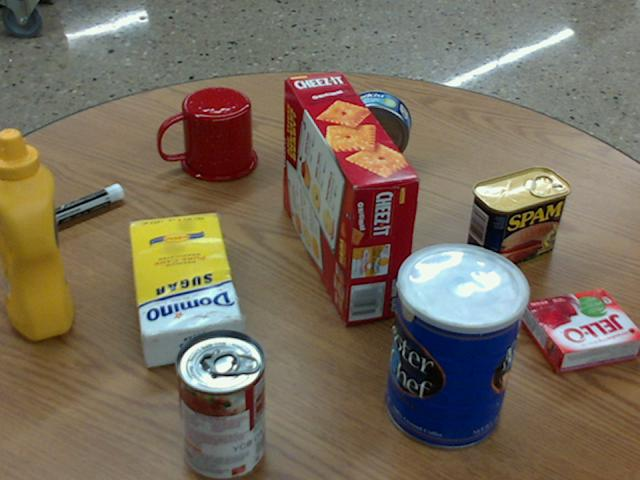cracker_box: (284, 73, 419, 324)
gelatin_box: (523, 288, 639, 372)
large_marker: (18, 183, 123, 235)
master_chef_can: (386, 243, 528, 449)
mug: (158, 87, 256, 181)
mustard_bottle: (0, 129, 72, 337)
potted_meat_can: (466, 166, 570, 272)
sugar_box: (129, 212, 242, 366)
tomato_soup_can: (173, 330, 263, 479)
tuna_fish_can: (338, 91, 409, 164)
